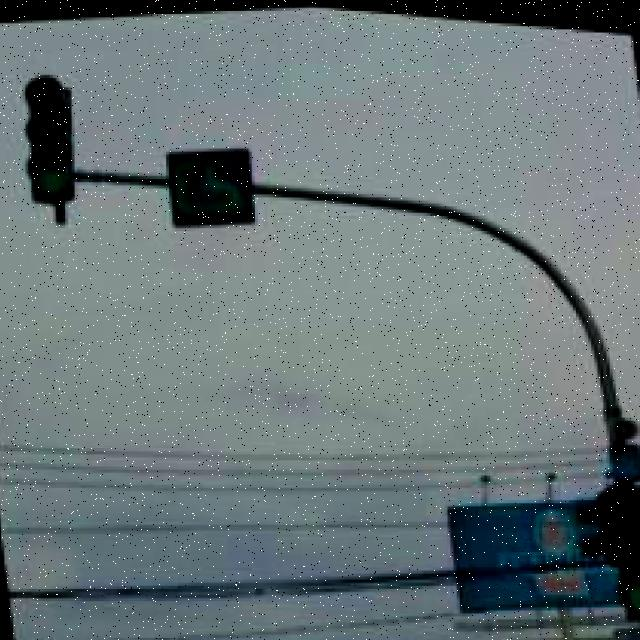Lampu Hijau: (12, 66, 88, 206), (605, 472, 640, 613)
